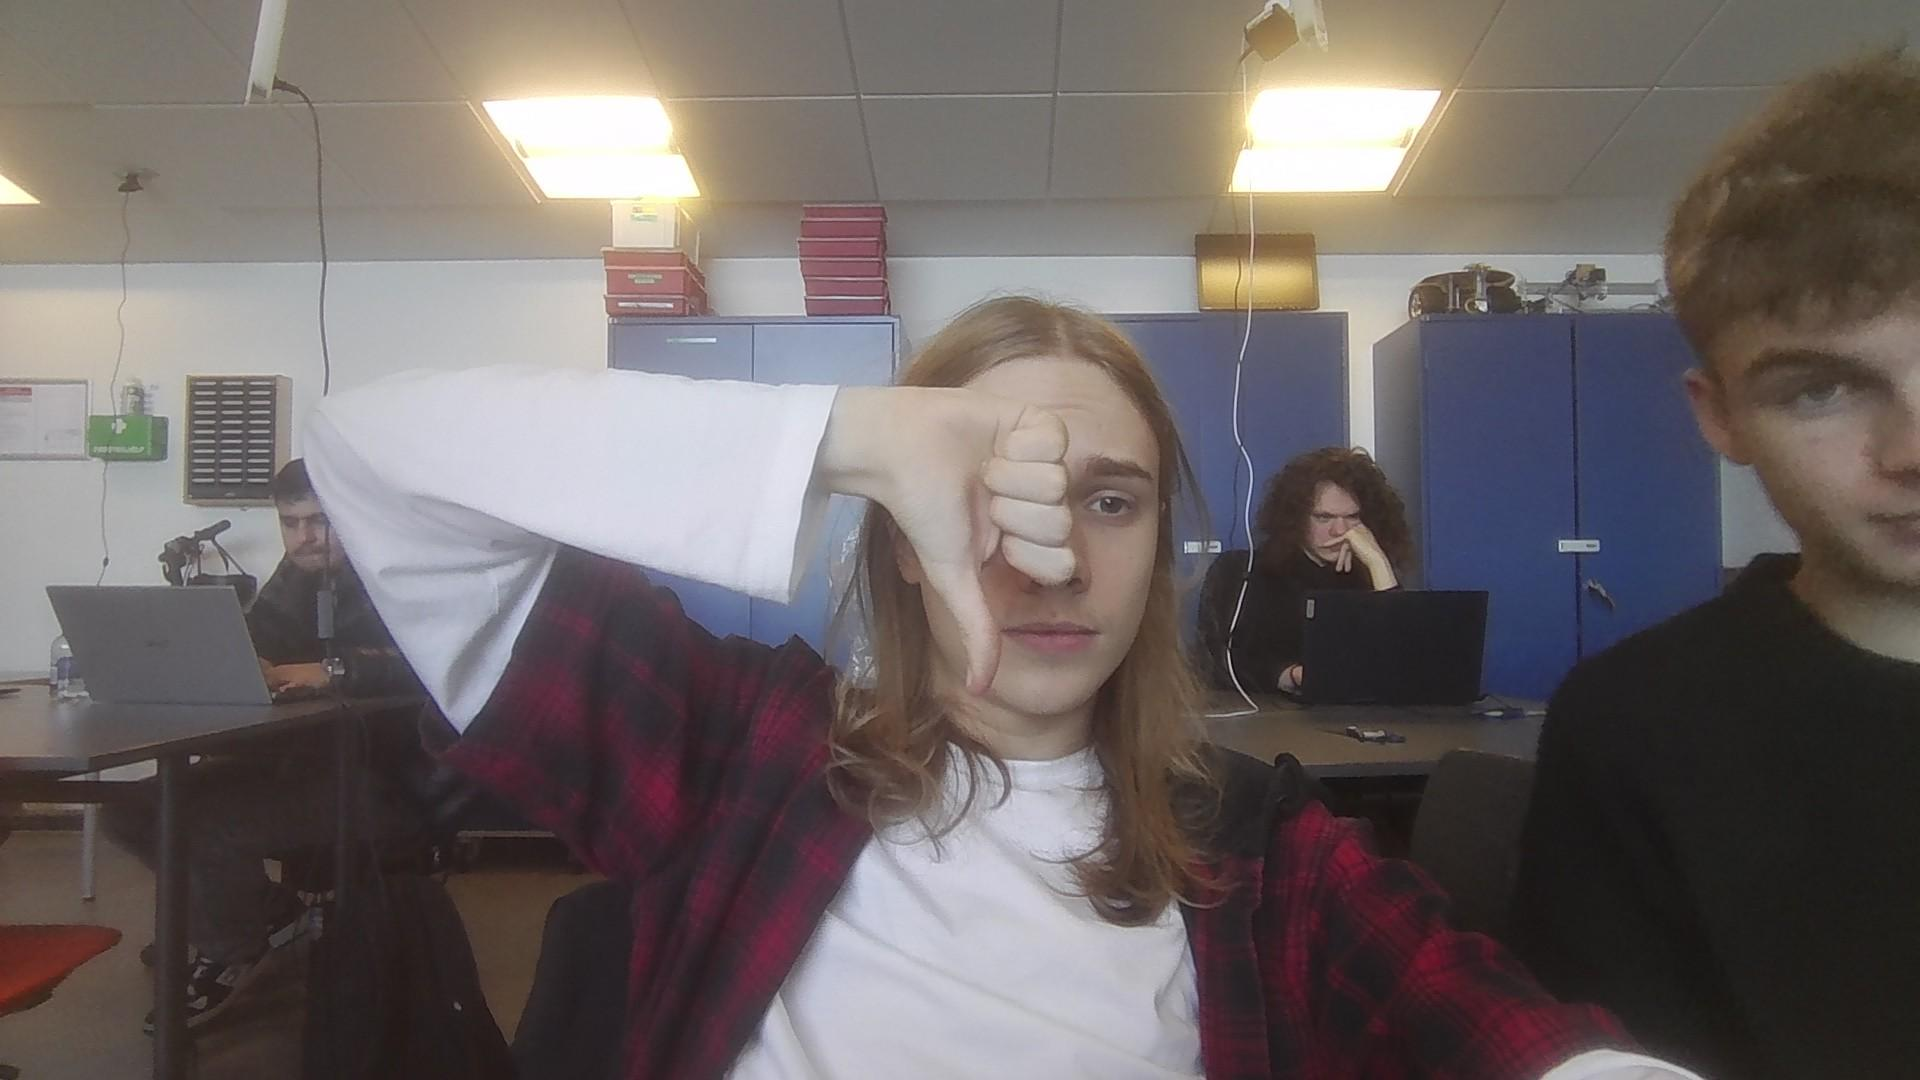thumbs down: (877, 373, 1087, 691)
